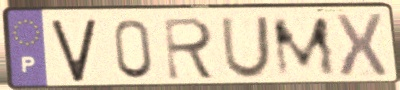0: (112, 18, 155, 82)
M: (269, 14, 339, 79)
R: (161, 15, 219, 82)
U: (219, 14, 273, 81)
V: (48, 16, 99, 84)
X: (331, 12, 391, 81)
